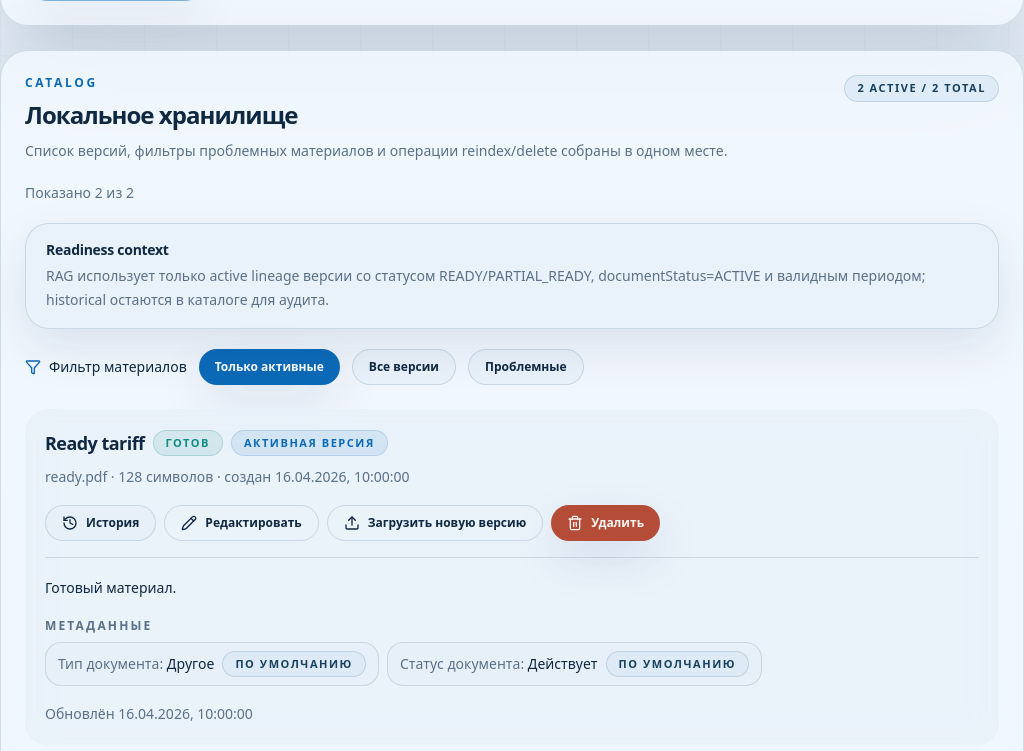
Test: MaterialsPanel › filters the catalog to problematic materials and exposes reindex actions only there
(page scrolled)
Click the button "Проблемные". click: (526, 367)
box: 468,349 -> 584,385
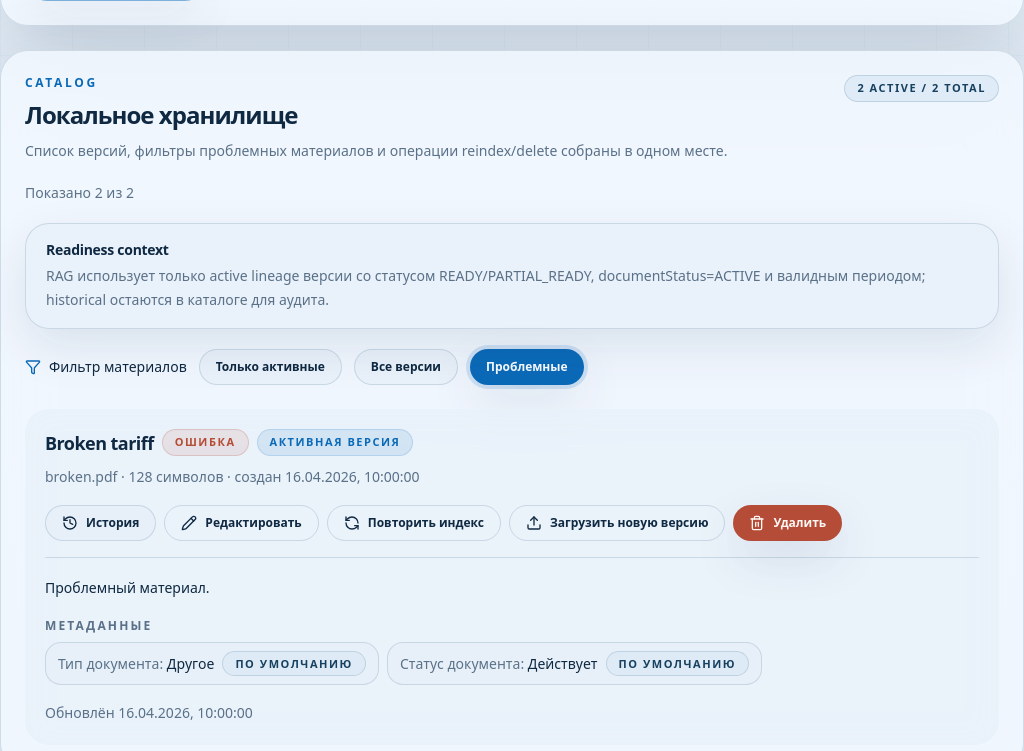
Expected: the heading "Broken tariff" is shown, 45,429 -> 154,457
Expected: the heading "Ready tariff" is gone
